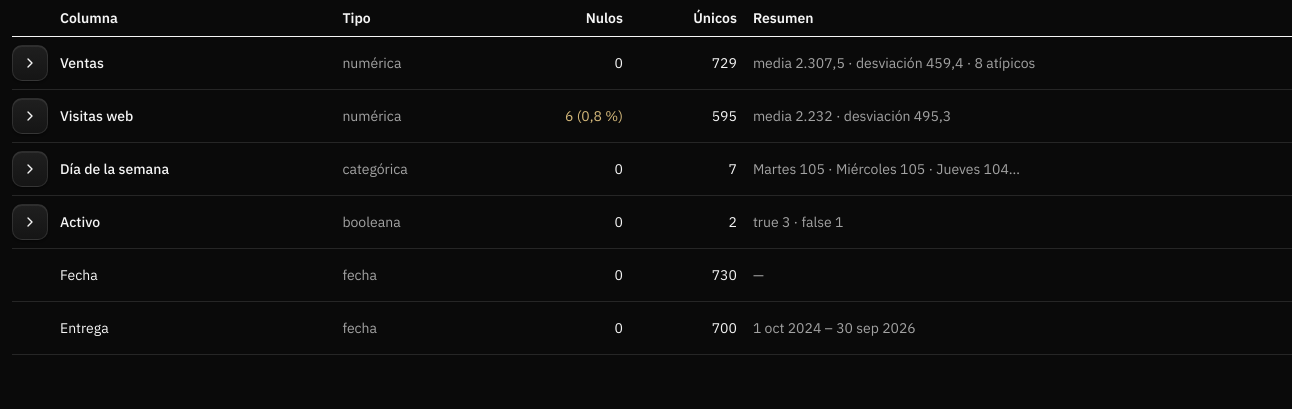
Test case: ColumnTable › expands the Día de la semana column to every category and its count
Expected: the text "Día de la semana" shows "Martes 105 · Miércoles 105 · Jueves 104…", [753,160,1020,178]
Click the button "Día de la semana": click(91, 169) [12,147,169,191]
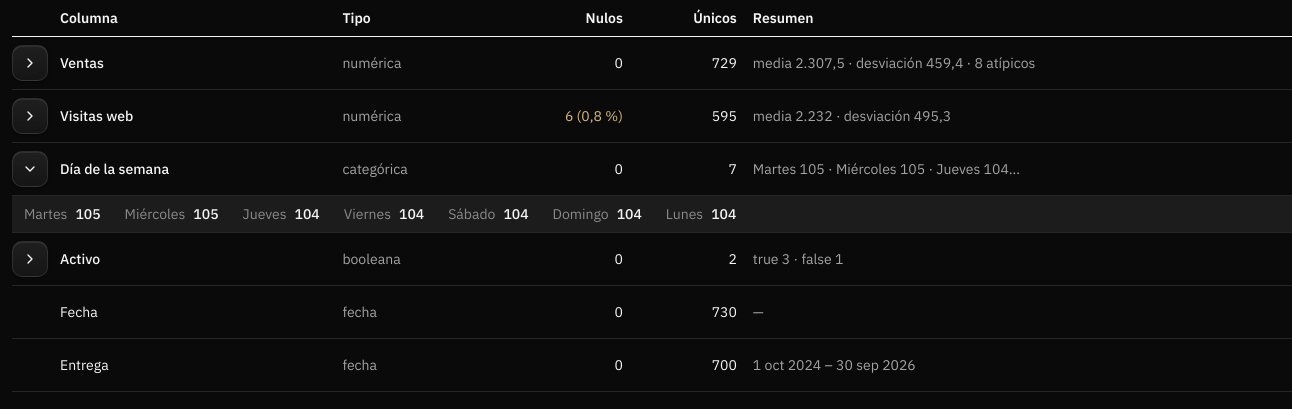
Result: the button "Día de la semana" is expanded at [12,147,169,191]
